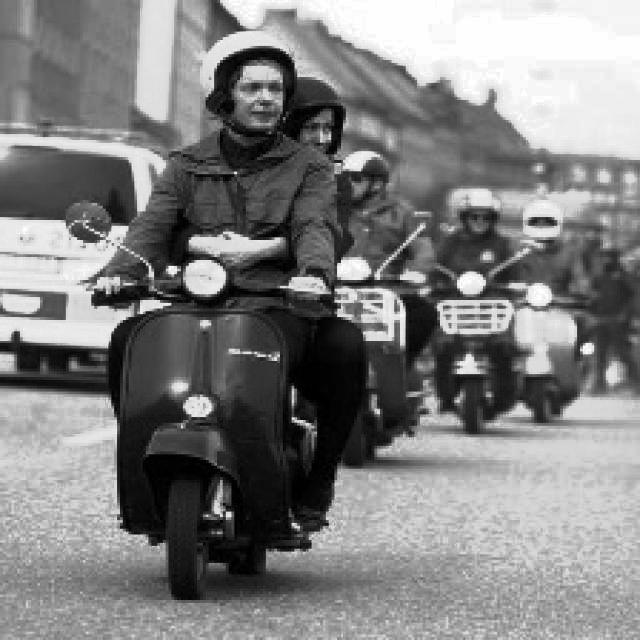Bike: (98, 255, 322, 595), (325, 266, 431, 462), (430, 279, 524, 428), (502, 286, 588, 420)
